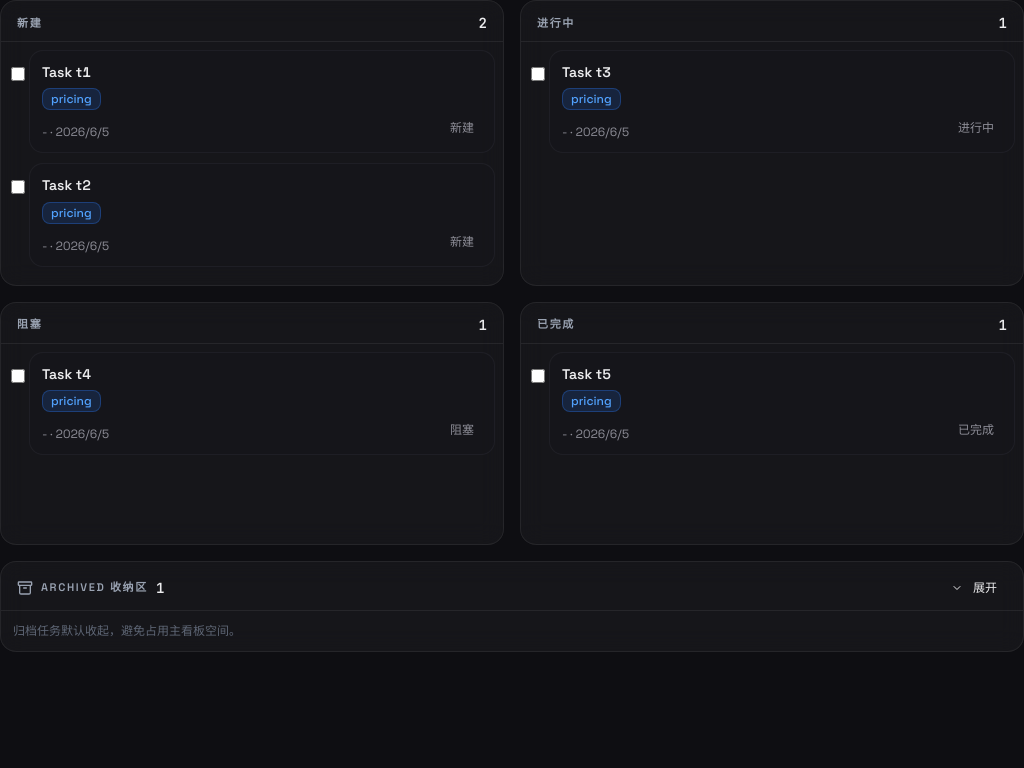
Test: WorkbenchBoard › renders archived tasks in the archived section after expanding
This screenshot has width=1024, height=768.
Click the button "展开" at [974, 588], box [941,574,1007,602]
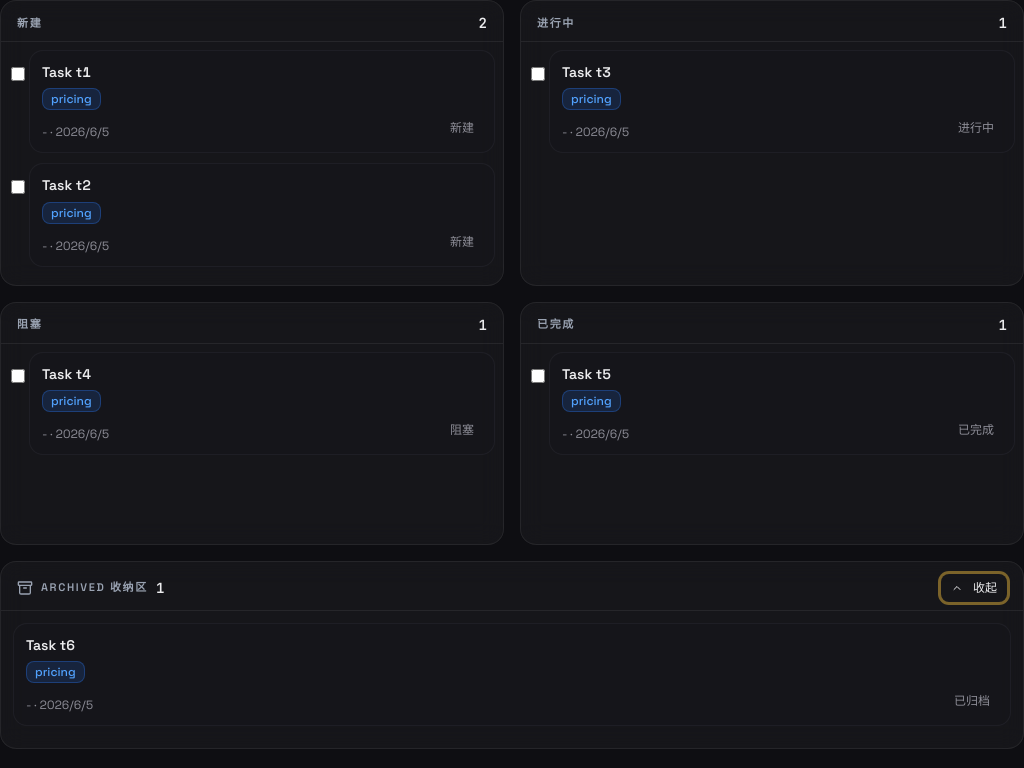
expect the element with test id "board-archived-section" shows "Task t6": met, box [26,636,75,654]
